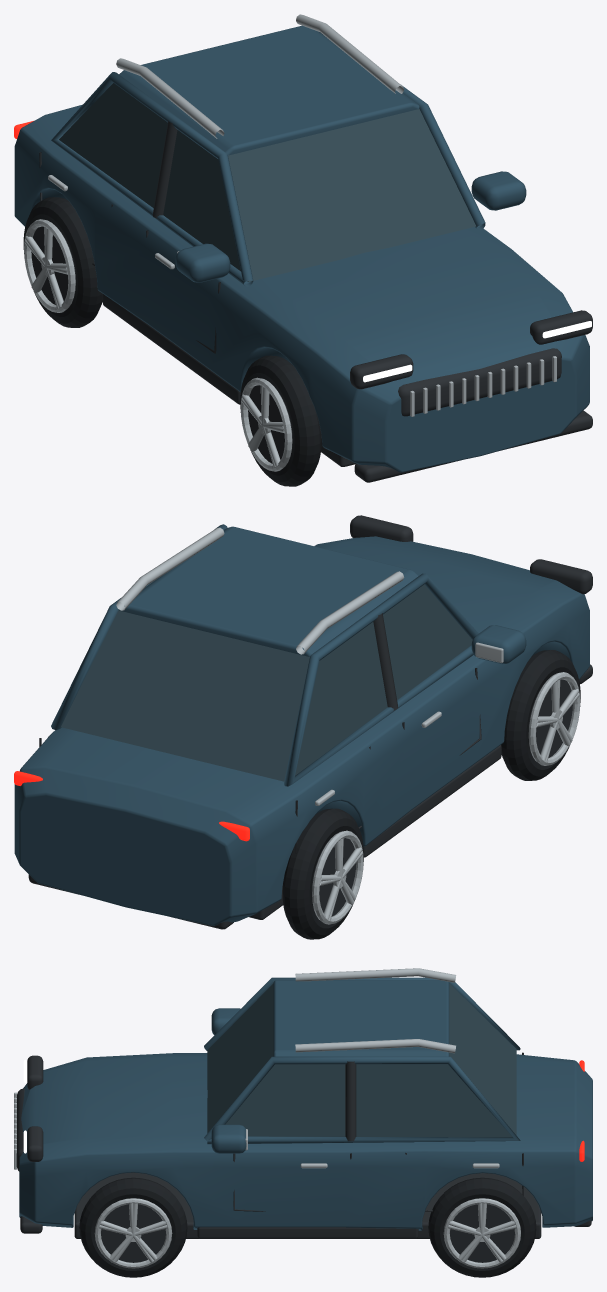
File: oba-grand.glb
The picture shows the model from 3 angles, top to bottom: view 1: azimuth 30°, elevation 25°; view 2: azimuth 150°, elevation 25°; view 3: azimuth 270°, elevation 25°; orthographic projection. The views are drawn at different scales.
Parts seen in each view (by area): view 1: Oba midnight blue pearl, Smoked automotive glazing, Grille and trim, Satin alloy, Tyre rubber, Tyre rubber.001, Satin alloy.002, Satin alloy.001, Grille and trim.002, Grille and trim.001, Warm LED signature; view 2: Oba midnight blue pearl, Smoked automotive glazing, Grille and trim, Tyre rubber.001, Tyre rubber, Satin alloy, Satin alloy.002, Satin alloy.001, Grille and trim.002, Grille and trim.001, Red taillight lens; view 3: Oba midnight blue pearl, Smoked automotive glazing, Grille and trim, Tyre rubber.002, Tyre rubber.003, Satin alloy, Satin alloy.003, Satin alloy.004, Grille and trim.003, Grille and trim.004.
Boxes of the visible parts, box(x1,y1,x2,y2) form: Oba midnight blue pearl: box(14, 25, 589, 472); Smoked automotive glazing: box(59, 83, 480, 281); Grille and trim: box(39, 120, 592, 482); Satin alloy: box(48, 14, 556, 416); Tyre rubber: box(240, 355, 321, 486); Tyre rubber.001: box(23, 197, 102, 327); Satin alloy.002: box(24, 219, 75, 312); Satin alloy.001: box(240, 377, 292, 471); Grille and trim.002: box(31, 226, 75, 304); Grille and trim.001: box(248, 384, 292, 463); Warm LED signature: box(363, 321, 591, 382); Oba midnight blue pearl: box(14, 524, 589, 925); Smoked automotive glazing: box(61, 584, 472, 781); Grille and trim: box(28, 515, 592, 929); Tyre rubber.001: box(282, 808, 363, 939); Tyre rubber: box(501, 650, 580, 780); Satin alloy: box(48, 527, 503, 805); Satin alloy.002: box(312, 830, 363, 924); Satin alloy.001: box(528, 672, 580, 765); Grille and trim.002: box(311, 837, 356, 916); Grille and trim.001: box(528, 679, 572, 757); Red taillight lens: box(14, 771, 249, 841); Oba midnight blue pearl: box(19, 977, 592, 1230); Smoked automotive glazing: box(207, 983, 516, 1137); Grille and trim: box(16, 1052, 591, 1238); Tyre rubber.002: box(79, 1177, 187, 1277); Tyre rubber.003: box(428, 1177, 536, 1277); Satin alloy: box(14, 968, 499, 1169); Satin alloy.003: box(94, 1198, 172, 1268); Satin alloy.004: box(443, 1198, 520, 1268); Grille and trim.003: box(101, 1204, 165, 1262); Grille and trim.004: box(450, 1204, 514, 1262).
Bounding box in the file's own units: 1.34 × 1.05 × 2.48.
